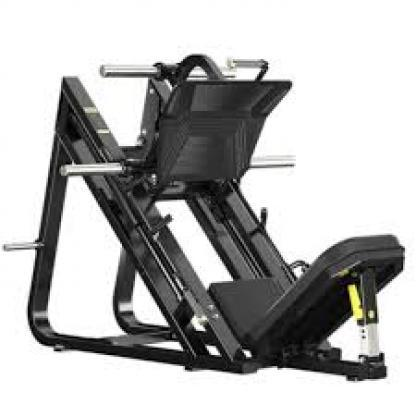leg press: (2, 56, 411, 387)
